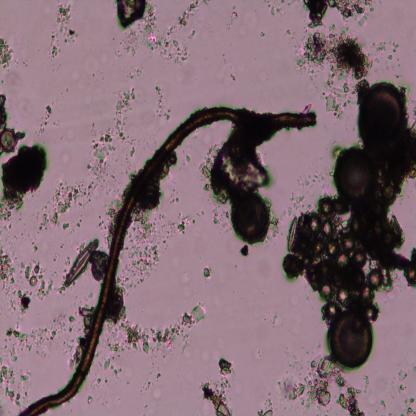Background material: (278, 195, 383, 314), (108, 288, 205, 359), (202, 121, 274, 202), (380, 135, 416, 290), (279, 354, 366, 415), (293, 31, 374, 80), (0, 143, 49, 223), (121, 219, 162, 292), (156, 1, 202, 64), (39, 181, 92, 231), (198, 358, 234, 416), (301, 1, 375, 29), (135, 167, 172, 220), (5, 325, 57, 361), (48, 2, 79, 57), (316, 75, 354, 119), (73, 55, 109, 101), (114, 1, 156, 35), (90, 122, 112, 184), (112, 90, 135, 143), (111, 26, 144, 61), (95, 352, 127, 388), (393, 369, 416, 415), (0, 366, 22, 408), (142, 5, 160, 56), (215, 49, 240, 83), (0, 247, 18, 290), (3, 74, 31, 99), (152, 85, 172, 119), (142, 368, 165, 397), (91, 249, 108, 281), (69, 334, 84, 370), (78, 307, 94, 337), (124, 64, 149, 81), (0, 36, 13, 68), (39, 106, 52, 137), (15, 289, 31, 314), (172, 215, 193, 234), (377, 42, 398, 61), (268, 307, 284, 329), (57, 150, 76, 168), (0, 93, 9, 130), (38, 282, 54, 302), (257, 398, 276, 414), (27, 235, 38, 256), (228, 8, 238, 31), (269, 5, 285, 18), (203, 264, 213, 283), (287, 320, 298, 337), (238, 245, 251, 258), (67, 314, 76, 332), (128, 145, 136, 159), (24, 265, 30, 280), (34, 263, 40, 277), (84, 395, 93, 404), (257, 30, 266, 38)
Diatom: (359, 83, 410, 146), (334, 144, 379, 204), (328, 310, 375, 367), (230, 191, 271, 245), (66, 240, 100, 286), (1, 130, 18, 152), (288, 218, 298, 249), (30, 276, 38, 285)
Natural material: (22, 110, 317, 416)
